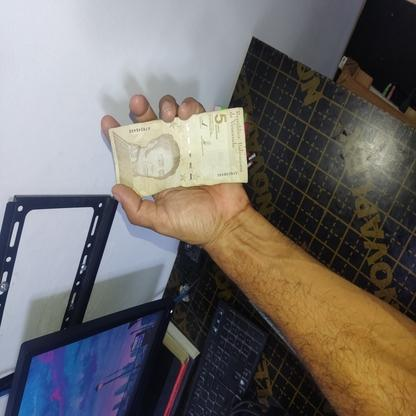five-front-vef: (107, 106, 248, 198)
